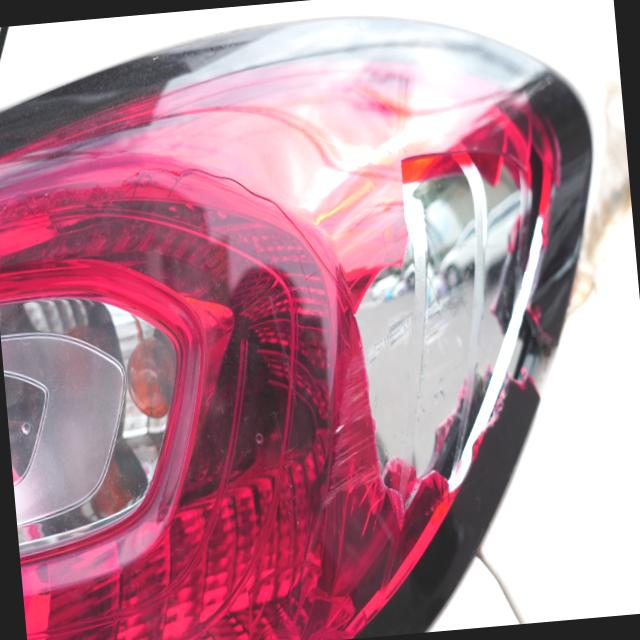Phare abime: (161, 60, 593, 546)
